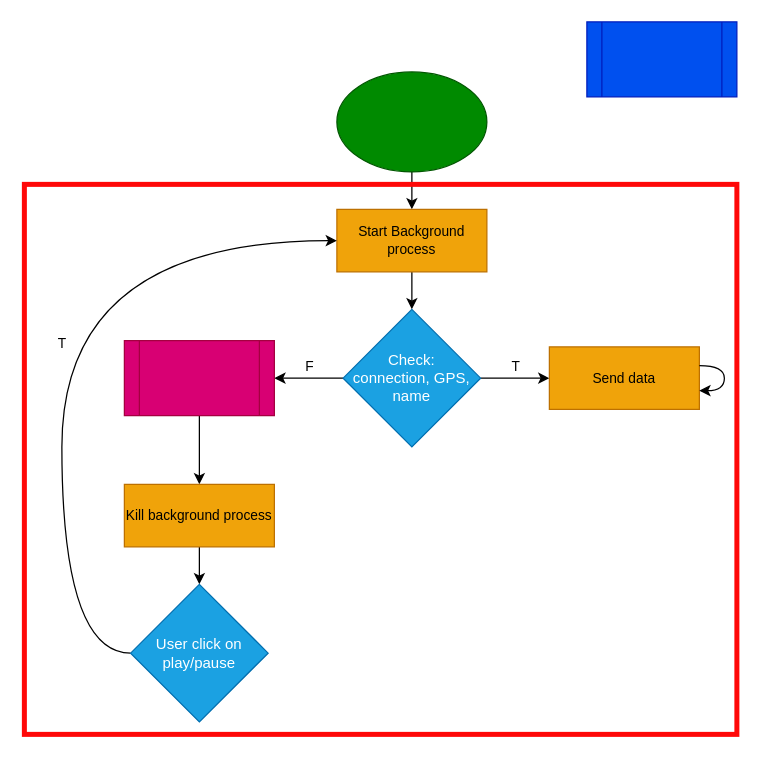
The diagram is 760 pixels wide and 759 high, and some of its shapes have lost their labels. Here are the shapes that lost their labels. From the top down, the centre of each, then its label:
At pixel 661 59: "Play".
At pixel 411 121: "MainWindow opens".
At pixel 198 377: "Notify user".
